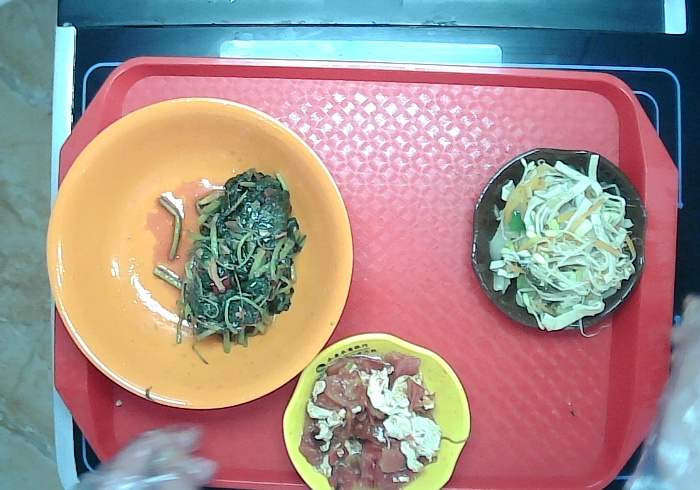YKMZ-Huang_Se_Ao_Bian_Wan: (284, 324, 489, 490)
YKMZ-Ju_Se_Tang_Wan: (37, 94, 350, 411)
YKMZ-Ka_Fei_Ao_Bian_Wan: (469, 141, 646, 332)
